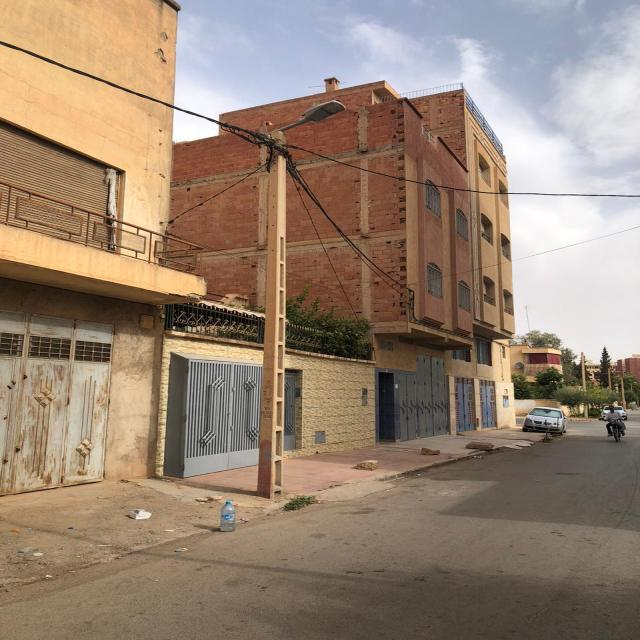Electric pole: (257, 148, 287, 499), (269, 100, 344, 148)
